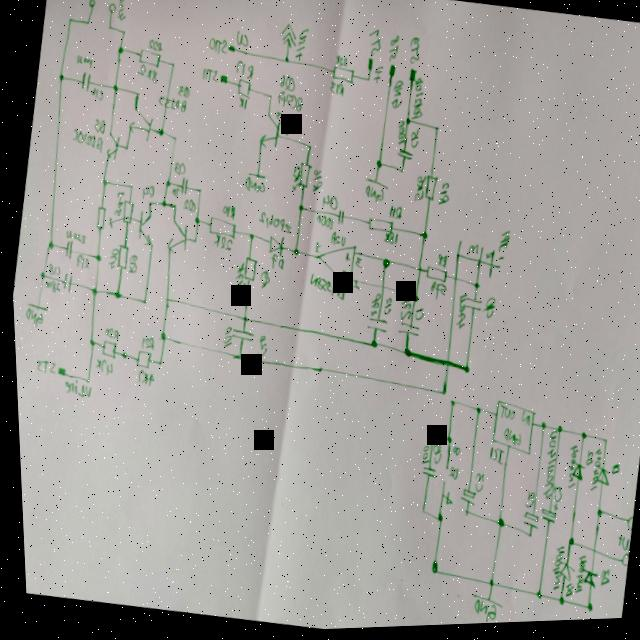capacitor: (76, 64, 94, 95), (535, 504, 556, 530), (363, 317, 388, 337), (229, 328, 254, 346), (394, 323, 419, 341), (517, 513, 537, 534), (455, 489, 474, 510), (333, 206, 348, 231), (59, 271, 73, 295), (463, 299, 482, 315), (395, 150, 414, 165), (61, 240, 75, 259), (178, 176, 190, 197), (417, 468, 434, 482)
crossover: (439, 360, 449, 374), (375, 285, 385, 294), (238, 316, 247, 325), (449, 278, 457, 287), (586, 550, 593, 560), (414, 268, 421, 277)
diode: (587, 463, 612, 497), (563, 462, 584, 493), (266, 235, 285, 258), (576, 571, 595, 593), (553, 564, 572, 585)
ground: (466, 596, 499, 614), (362, 178, 390, 195), (23, 300, 49, 315), (247, 172, 266, 184)
junction: (425, 561, 435, 578), (365, 339, 378, 352), (378, 259, 390, 273), (491, 519, 502, 533), (400, 348, 411, 362), (91, 251, 102, 265), (580, 605, 590, 618), (295, 204, 305, 216), (156, 331, 166, 342), (529, 593, 539, 604), (88, 285, 97, 297), (562, 539, 571, 551), (37, 269, 46, 281), (552, 598, 560, 611), (374, 162, 383, 173), (45, 239, 54, 250), (418, 233, 427, 244), (111, 290, 120, 301), (591, 511, 600, 522), (290, 248, 299, 259), (576, 434, 585, 445), (470, 283, 479, 294), (471, 408, 480, 419), (100, 177, 108, 188), (536, 423, 544, 434), (410, 295, 418, 306), (442, 437, 450, 448), (57, 71, 65, 82), (403, 119, 411, 130), (233, 353, 241, 364), (158, 127, 165, 139), (461, 367, 468, 378), (432, 515, 439, 526), (483, 582, 491, 591), (117, 46, 125, 55), (163, 179, 171, 188), (283, 57, 291, 66), (598, 440, 606, 449), (446, 402, 454, 411), (134, 90, 142, 99), (159, 199, 166, 209), (162, 296, 169, 306), (426, 431, 433, 441), (193, 217, 200, 226), (112, 84, 119, 93), (86, 338, 93, 347), (247, 233, 254, 242), (139, 298, 146, 307), (522, 534, 529, 543), (437, 391, 444, 400), (170, 203, 177, 212), (118, 352, 125, 361), (85, 19, 92, 27), (171, 135, 178, 143), (68, 16, 75, 24), (398, 169, 405, 177), (81, 378, 89, 385), (191, 237, 197, 246), (268, 94, 274, 103), (170, 62, 177, 69), (433, 128, 440, 135), (107, 24, 114, 31), (145, 200, 152, 207), (460, 512, 466, 520), (366, 77, 371, 86), (306, 146, 312, 153), (416, 510, 422, 517), (196, 188, 202, 195), (128, 184, 134, 191), (155, 360, 161, 367), (124, 145, 129, 153), (122, 29, 127, 36)
resistor: (106, 198, 135, 234), (204, 216, 238, 241), (329, 65, 357, 89), (136, 48, 164, 71), (295, 160, 314, 193), (239, 257, 258, 286), (366, 218, 393, 237), (130, 348, 151, 371), (422, 267, 446, 287), (235, 79, 254, 102), (113, 245, 129, 272), (93, 205, 108, 232), (98, 338, 117, 359)
source: (278, 23, 301, 52)
switch: (449, 242, 505, 283)
terminal: (407, 69, 417, 86), (218, 73, 230, 87), (615, 555, 624, 573), (388, 65, 398, 80), (365, 60, 375, 75), (53, 367, 65, 378), (108, 2, 118, 15), (622, 519, 629, 535), (227, 45, 236, 56), (89, 0, 97, 9), (436, 482, 444, 489), (439, 467, 446, 474)
text: (535, 430, 561, 508), (304, 274, 347, 307), (254, 211, 294, 239), (70, 126, 106, 156), (559, 446, 579, 496), (542, 548, 563, 595), (407, 77, 428, 124), (153, 92, 188, 116), (59, 376, 93, 400), (465, 600, 493, 627), (275, 91, 305, 116), (585, 451, 602, 495), (364, 29, 386, 61), (451, 296, 469, 335), (389, 80, 407, 115), (205, 36, 231, 60), (568, 557, 583, 598), (294, 28, 311, 63), (409, 176, 427, 209), (284, 165, 302, 197), (20, 305, 44, 329), (384, 35, 402, 67), (425, 282, 447, 308), (135, 64, 161, 86), (434, 182, 452, 213), (234, 59, 256, 83), (73, 50, 97, 71), (112, 0, 133, 24), (478, 297, 496, 325), (209, 235, 234, 255), (242, 177, 267, 197), (62, 227, 87, 247), (395, 297, 412, 326), (231, 263, 248, 292), (92, 357, 115, 378), (233, 29, 253, 52), (466, 472, 483, 499), (408, 38, 423, 68), (394, 122, 409, 151), (252, 334, 268, 361), (199, 67, 220, 87), (278, 73, 298, 94), (363, 187, 385, 206), (309, 169, 325, 195), (366, 295, 381, 322), (217, 202, 237, 222), (255, 269, 271, 294), (124, 252, 140, 277), (519, 493, 535, 518), (89, 116, 108, 137), (134, 369, 154, 388), (219, 324, 233, 351), (495, 408, 516, 426), (112, 189, 125, 218), (103, 248, 118, 273), (426, 443, 441, 468), (495, 231, 510, 256), (611, 535, 627, 558), (266, 254, 285, 273), (327, 232, 346, 251), (546, 486, 561, 510), (33, 357, 53, 375), (39, 278, 60, 295), (485, 448, 502, 469), (319, 195, 338, 213), (501, 432, 520, 450), (431, 252, 448, 272), (441, 465, 457, 486), (409, 305, 424, 327), (407, 130, 422, 152), (415, 445, 428, 470), (328, 82, 346, 100), (314, 214, 333, 231), (379, 296, 393, 319), (73, 254, 91, 271), (386, 206, 403, 224), (88, 87, 106, 104), (180, 198, 197, 216), (171, 160, 187, 179), (380, 233, 399, 249), (100, 326, 119, 342), (579, 451, 593, 471), (333, 55, 349, 72), (137, 336, 154, 352), (436, 491, 450, 510), (593, 572, 607, 591), (45, 261, 61, 277), (175, 83, 191, 99), (372, 66, 384, 87), (148, 39, 164, 53), (140, 184, 154, 200), (236, 97, 249, 113), (605, 465, 618, 481), (465, 245, 478, 260), (558, 585, 569, 602), (170, 186, 181, 200), (273, 111, 284, 125), (448, 448, 459, 461), (340, 253, 351, 266), (353, 258, 363, 272), (350, 280, 360, 294), (483, 252, 493, 264), (312, 243, 321, 256), (281, 128, 289, 139), (338, 272, 347, 279), (493, 258, 502, 265)
transistor: (125, 106, 157, 146), (164, 218, 192, 257), (256, 112, 283, 152), (133, 205, 157, 246), (101, 130, 123, 164)
